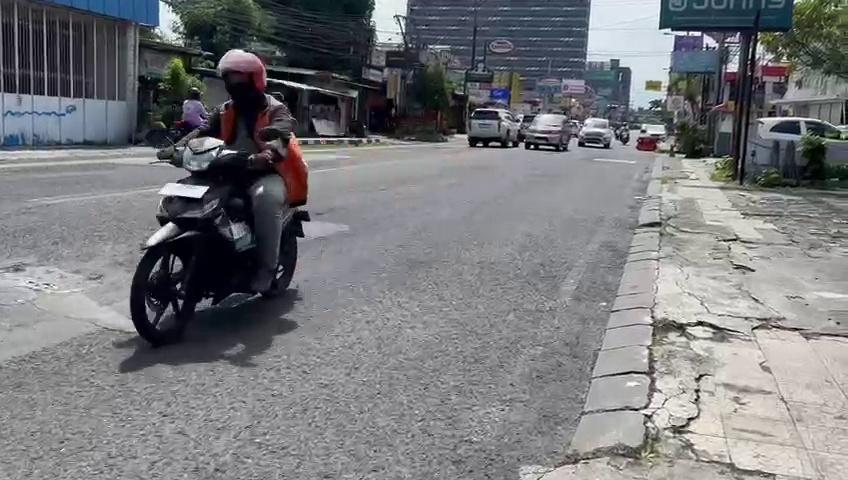helm: (212, 46, 271, 113)
riding: (118, 43, 325, 365)
